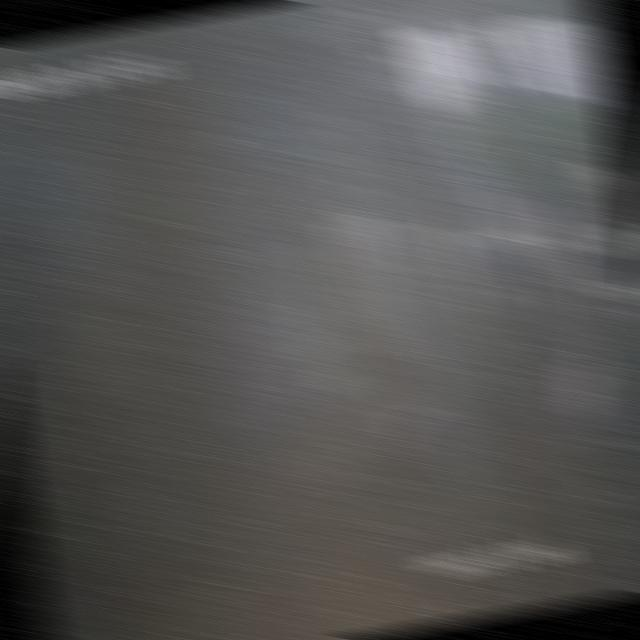cement_mixer_truck: (276, 163, 635, 526)
